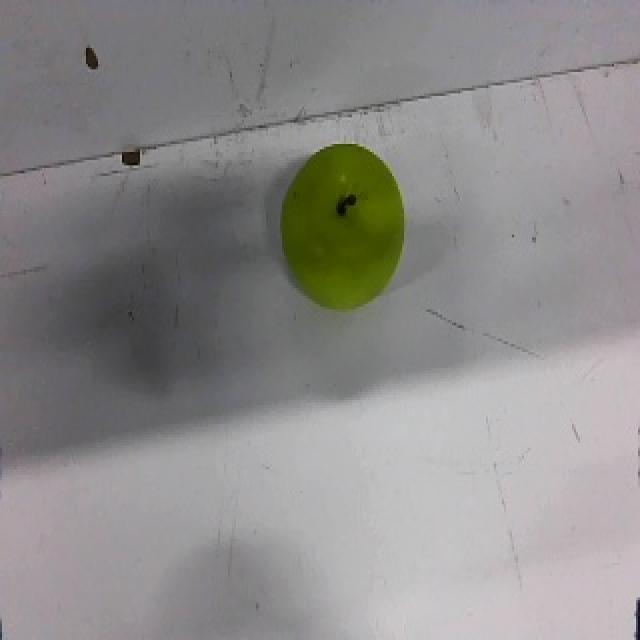apple: (278, 141, 406, 312)
